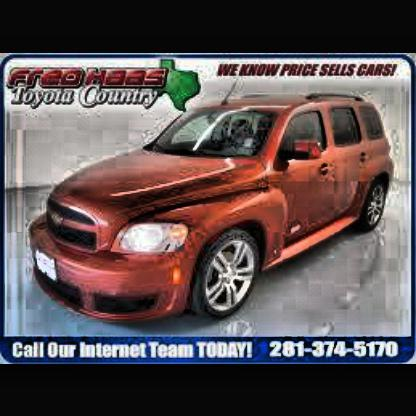Chevrolet HHR SS 2010: (28, 92, 407, 332)
